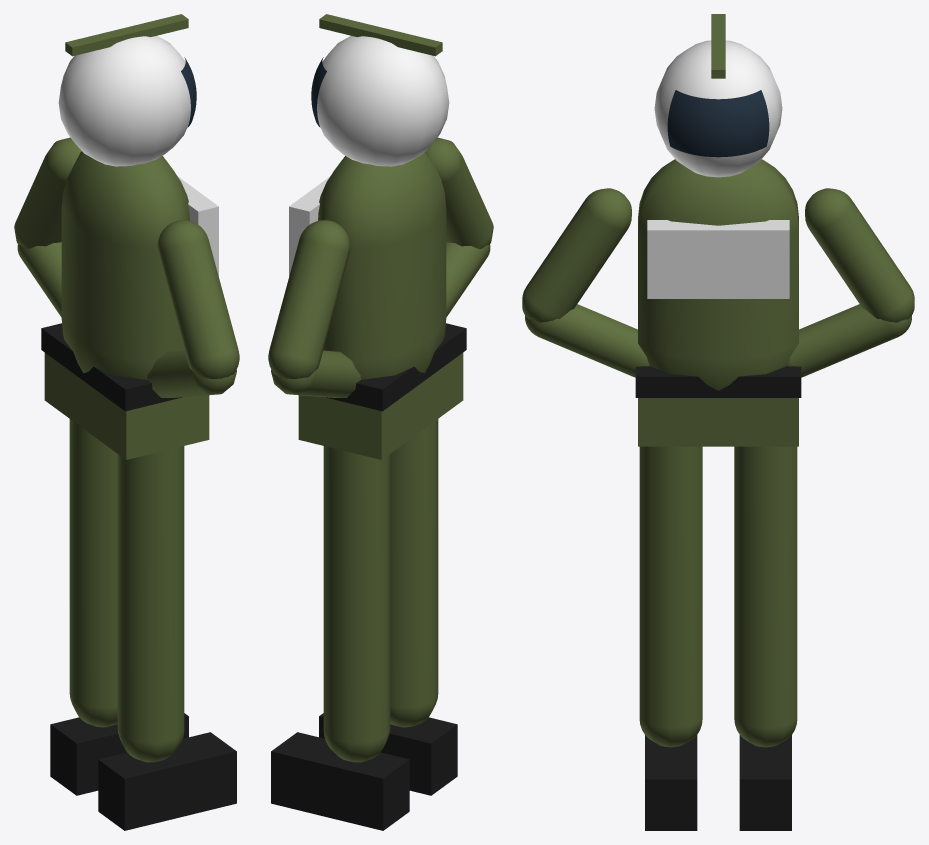
The model's file is pilot_hips.glb.
3 renders of one model, left to right at view 1: azimuth 30°, elevation 25°; view 2: azimuth 150°, elevation 25°; view 3: azimuth 270°, elevation 25°, orthographic.
Parts seen in each view (by area): view 1: pilot_hips, object 4, object 2; view 2: pilot_hips, object 2, object 4; view 3: pilot_hips, object 2, object 4.
Part boxes in pixels (<box>): pilot_hips: <box>14,14,239,830</box>; object 4: <box>147,350,236,397</box>; object 2: <box>17,242,61,317</box>; pilot_hips: <box>268,14,493,830</box>; object 2: <box>271,350,360,397</box>; object 4: <box>446,242,490,317</box>; pilot_hips: <box>522,14,914,830</box>; object 2: <box>787,304,911,377</box>; object 4: <box>525,304,649,377</box>.
Bounding box in the file's own units: 0.3215 × 1.76 × 0.8302.
